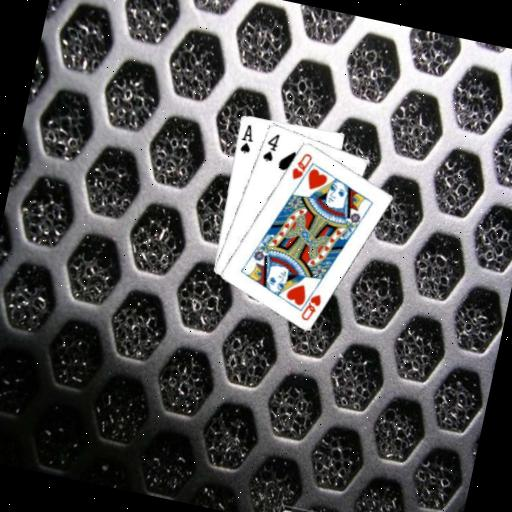4S: (258, 128, 281, 164)
AS: (235, 119, 257, 155)
QH: (294, 281, 325, 324), (287, 147, 314, 183)
